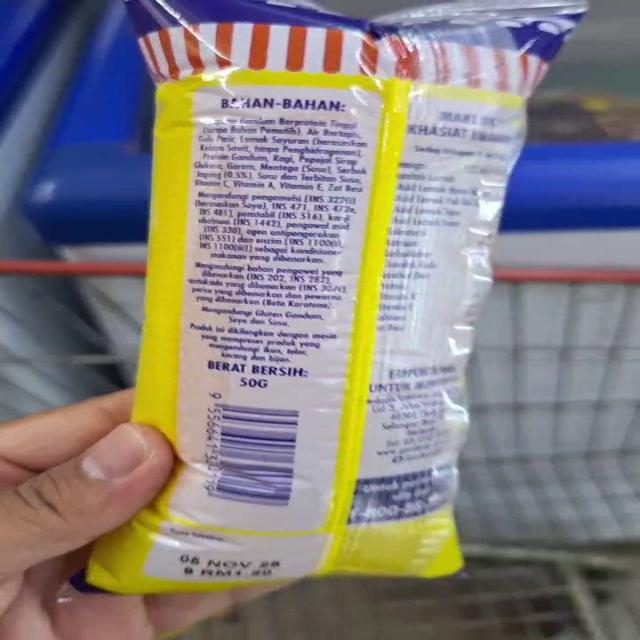Roti: (126, 3, 545, 577)
